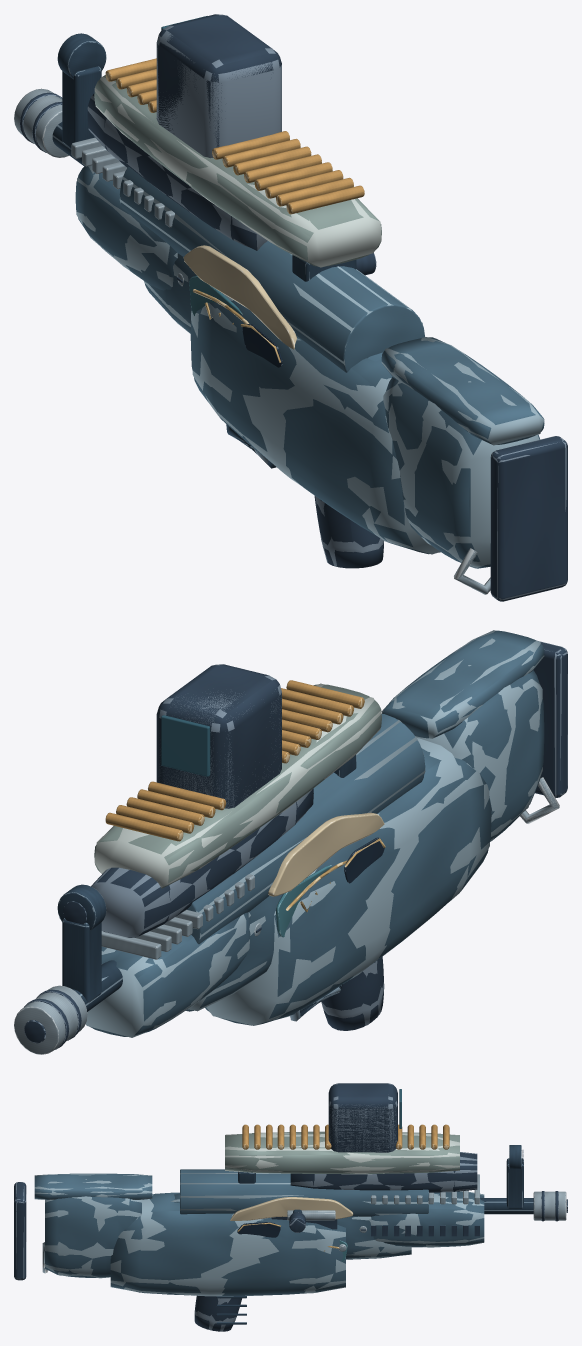
Rendered from anime-p90.glb.
The picture shows the model from 3 angles, top to bottom: view 1: azimuth 30°, elevation 25°; view 2: azimuth 150°, elevation 25°; view 3: azimuth 270°, elevation 25°; orthographic projection. The views are drawn at different scales.
Parts seen in each view (by area): view 1: weapon_Weapon finish / Polymer, World paint, weapon_Polymer, World hardware, magazine_Weapon finish / Olive rifle finish, magazine_Brass hardware, weapon_Parkerized steel, weapon_Machined edges, weapon_Weapon finish / Ivory enamel, magazine_Polymer, weapon_Recessed graphite mechanism, weapon_Inset blue ceramic; view 2: weapon_Weapon finish / Polymer, World paint, weapon_Polymer, World hardware, magazine_Weapon finish / Olive rifle finish, magazine_Brass hardware, weapon_Machined edges, weapon_Parkerized steel, magazine_Polymer, weapon_Weapon finish / Ivory enamel, weapon_Coated scope glass, weapon_Inset blue ceramic (+1 smaller); view 3: weapon_Weapon finish / Polymer, World paint, weapon_Polymer, magazine_Weapon finish / Olive rifle finish, World hardware, magazine_Polymer, weapon_Parkerized steel, magazine_Brass hardware, weapon_Machined edges, weapon_Weapon finish / Ivory enamel, weapon_Recessed graphite mechanism, bolt_Machined edges.
Part boxes in pixels (x1,y1,x2,y2): weapon_Weapon finish / Polymer: (75, 166, 544, 568); World paint: (76, 76, 544, 568); weapon_Polymer: (20, 14, 567, 601); World hardware: (14, 14, 567, 601); magazine_Weapon finish / Olive rifle finish: (94, 75, 381, 266); magazine_Brass hardware: (105, 58, 364, 214); weapon_Parkerized steel: (52, 33, 356, 468); weapon_Machined edges: (14, 89, 490, 594); weapon_Weapon finish / Ivory enamel: (184, 245, 296, 349); magazine_Polymer: (87, 93, 257, 250); weapon_Recessed graphite mechanism: (242, 324, 282, 367); weapon_Inset blue ceramic: (189, 275, 242, 315); weapon_Weapon finish / Polymer: (90, 630, 544, 1036); World paint: (85, 630, 544, 1037); weapon_Polymer: (24, 642, 567, 1049); World hardware: (14, 640, 567, 1054); magazine_Weapon finish / Olive rifle finish: (94, 684, 381, 888); magazine_Brass hardware: (105, 680, 364, 841); weapon_Machined edges: (14, 777, 558, 1054); weapon_Parkerized steel: (57, 755, 356, 1016); magazine_Polymer: (91, 788, 313, 937); weapon_Weapon finish / Ivory enamel: (268, 812, 384, 896); weapon_Coated scope glass: (161, 715, 210, 776); weapon_Inset blue ceramic: (276, 865, 331, 937); weapon_Weapon finish / Polymer: (34, 1169, 484, 1295); World paint: (34, 1132, 484, 1296); weapon_Polymer: (14, 1083, 567, 1331); magazine_Weapon finish / Olive rifle finish: (225, 1131, 459, 1173); World hardware: (14, 1083, 567, 1331); magazine_Polymer: (290, 1152, 477, 1192); weapon_Parkerized steel: (216, 1145, 533, 1324); magazine_Brass hardware: (242, 1124, 449, 1149); weapon_Machined edges: (42, 1174, 566, 1273); weapon_Weapon finish / Ivory enamel: (230, 1197, 353, 1220); weapon_Recessed graphite mechanism: (237, 1222, 280, 1237); bolt_Machined edges: (287, 1210, 335, 1220).
Size of the model in its own units: 0.1344 by 0.3797 by 0.801.
13 materials, 10 textured.
